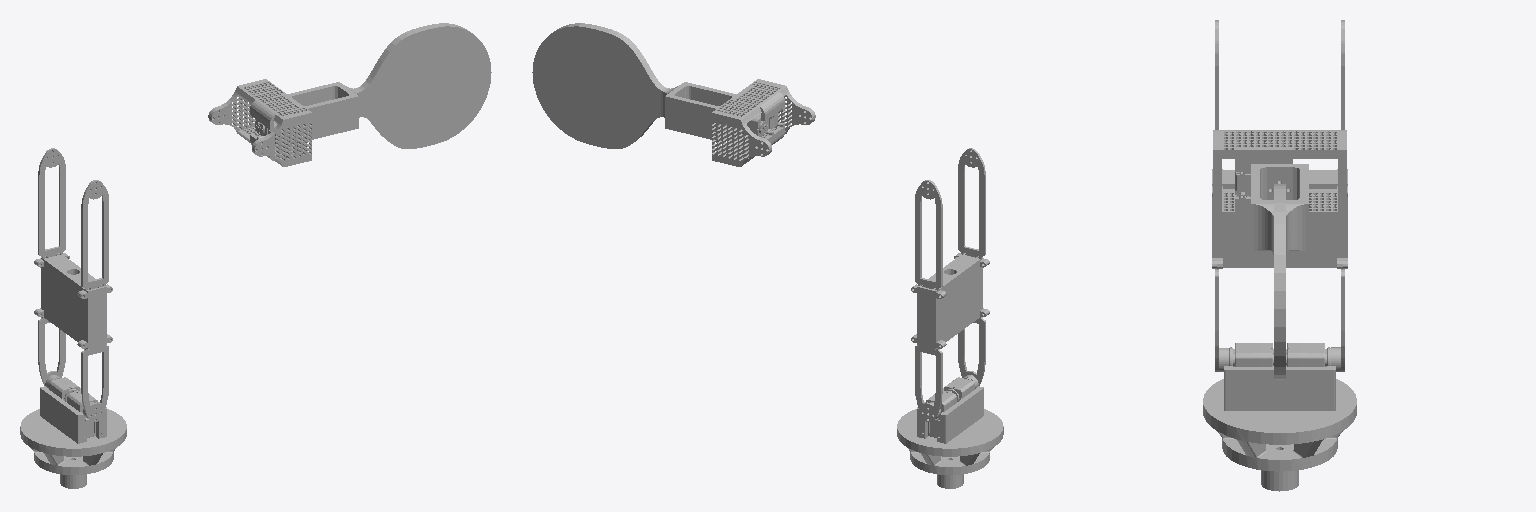
The robot description file, URDF, robot "tt_robot_new":
<?xml version="1.0" encoding="utf-8"?>
<!-- This URDF was automatically created by SolidWorks to URDF Exporter! Originally created by [author] ([email redacted]) 
     Commit Version: 1.6.0-4-g7f85cfe  Build Version: 1.6.7995.38578
     For more information, please see http://wiki.ros.org/sw_urdf_exporter -->
<robot
  name="tt_robot_new">
  <link
    name="base_link">
    <inertial>
      <origin
        xyz="-0.00068450739552306 -0.0177601382975201 -0.309617135038554"
        rpy="0 0 0" />
      <mass
        value="9.7959481753208" />
      <inertia
        ixx="1.31043502484873"
        ixy="9.20034806129902E-10"
        ixz="5.13036286463764E-06"
        iyy="0.117663335590758"
        iyz="1.11756095773954E-08"
        izz="1.19795759634263" />
    </inertial>
    <visual>
      <origin
        xyz="0 0 0"
        rpy="0 0 0" />
      <geometry>
        <mesh
          filename="package://tt_robot_new/meshes/base_link.STL" />
      </geometry>
      <material
        name="">
        <color
          rgba="0.752941176470588 0.752941176470588 0.752941176470588 1" />
      </material>
    </visual>
    <collision>
      <origin
        xyz="0 0 0"
        rpy="0 0 0" />
      <geometry>
        <mesh
          filename="package://tt_robot_new/meshes/base_link.STL" />
      </geometry>
    </collision>
  </link>
  <link
    name="link1">
    <inertial>
      <origin
        xyz="0.0515795102487956 0.0712796861517293 2.20004223339121E-05"
        rpy="0 0 0" />
      <mass
        value="3.10157496535556" />
      <inertia
        ixx="0.00365213528794053"
        ixy="0.000152045186326286"
        ixz="5.06289312961614E-07"
        iyy="0.00585553170474243"
        iyz="-2.36168217005859E-06"
        izz="0.00293625685237942" />
    </inertial>
    <visual>
      <origin
        xyz="0 0 0"
        rpy="0 0 0" />
      <geometry>
        <mesh
          filename="package://tt_robot_new/meshes/link1.STL" />
      </geometry>
      <material
        name="">
        <color
          rgba="0.752941176470588 0.752941176470588 0.752941176470588 1" />
      </material>
    </visual>
    <collision>
      <origin
        xyz="0 0 0"
        rpy="0 0 0" />
      <geometry>
        <mesh
          filename="package://tt_robot_new/meshes/link1.STL" />
      </geometry>
    </collision>
  </link>
  <joint
    name="jlink1"
    type="prismatic">
    <origin
      xyz="-0.000210000000085087 0 0.0336899999999996"
      rpy="1.5707963267949 0 0" />
    <parent
      link="base_link" />
    <child
      link="link1" />
    <axis
      xyz="0 0 1" />
    <limit
      lower="-0.5"
      upper="0.5"
      effort="330"
      velocity="37.68" />
  </joint>
  <link
    name="link2">
    <inertial>
      <origin
        xyz="-1.88368320941379E-10 1.74874559277782E-10 0.0467204521303066"
        rpy="0 0 0" />
      <mass
        value="0.419386742315461" />
      <inertia
        ixx="0.000305156356931551"
        ixy="7.55334082473175E-10"
        ixz="-1.24629777794361E-12"
        iyy="0.000287056887317105"
        iyz="1.06009487919062E-12"
        izz="0.000386600982434695" />
    </inertial>
    <visual>
      <origin
        xyz="0 0 0"
        rpy="0 0 0" />
      <geometry>
        <mesh
          filename="package://tt_robot_new/meshes/link2.STL" />
      </geometry>
      <material
        name="">
        <color
          rgba="0.752941176470588 0.752941176470588 0.752941176470588 1" />
      </material>
    </visual>
    <collision>
      <origin
        xyz="0 0 0"
        rpy="0 0 0" />
      <geometry>
        <mesh
          filename="package://tt_robot_new/meshes/link2.STL" />
      </geometry>
    </collision>
  </link>
  <joint
    name="jlink2"
    type="revolute">
    <origin
      xyz="0.000307000000082103 0.126190262351384 6.26813771418266E-05"
      rpy="-1.57079632679489 0 0" />
    <parent
      link="link1" />
    <child
      link="link2" />
    <axis
      xyz="0 0 -1" />
    <limit
      lower="-3.14"
      upper="3.14"
      effort="1.32"
      velocity="9420.0" />
  </joint>
  <link
    name="link3">
    <inertial>
      <origin
        xyz="3.25066640272098E-11 -0.123773974187578 0.0433249999999483"
        rpy="0 0 0" />
      <mass
        value="0.2011194299253" />
      <inertia
        ixx="0.000440124087331883"
        ixy="1.08178655134614E-13"
        ixz="1.41113659459954E-20"
        iyy="0.000143174669865854"
        iyz="-9.03037125908013E-19"
        izz="0.000324876527152772" />
    </inertial>
    <visual>
      <origin
        xyz="0 0 0"
        rpy="0 0 0" />
      <geometry>
        <mesh
          filename="package://tt_robot_new/meshes/link3.STL" />
      </geometry>
      <material
        name="">
        <color
          rgba="0.752941176470588 0.752941176470588 0.752941176470588 1" />
      </material>
    </visual>
    <collision>
      <origin
        xyz="0 0 0"
        rpy="0 0 0" />
      <geometry>
        <mesh
          filename="package://tt_robot_new/meshes/link3.STL" />
      </geometry>
    </collision>
  </link>
  <joint
    name="jlink3"
    type="revolute">
    <origin
      xyz="0 -0.0433249999999783 0.0934797376485841"
      rpy="-1.5707963267949 0 0" />
    <parent
      link="link2" />
    <child
      link="link3" />
    <axis
      xyz="0 0 -1" />
    <limit
      lower="-1.57"
      upper="1.57"
      effort="5.88399"
      velocity="4.712388975" />
  </joint>
  <link
    name="link4">
    <inertial>
      <origin
        xyz="0.0930573226616448 0.000269897585655876 0.0462109403227624"
        rpy="0 0 0" />
      <mass
        value="0.435806922427861" />
      <inertia
        ixx="0.000162284988620413"
        ixy="-5.24307844513412E-07"
        ixz="-1.17325972370809E-11"
        iyy="0.00051189665256617"
        iyz="1.50430408773966E-09"
        izz="0.000405471720641148" />
    </inertial>
    <visual>
      <origin
        xyz="0 0 0"
        rpy="0 0 0" />
      <geometry>
        <mesh
          filename="package://tt_robot_new/meshes/link4.STL" />
      </geometry>
      <material
        name="">
        <color
          rgba="0.752941176470588 0.752941176470588 0.752941176470588 1" />
      </material>
    </visual>
    <collision>
      <origin
        xyz="0 0 0"
        rpy="0 0 0" />
      <geometry>
        <mesh
          filename="package://tt_robot_new/meshes/link4.STL" />
      </geometry>
    </collision>
  </link>
  <joint
    name="jlink4"
    type="revolute">
    <origin
      xyz="0 -0.280800000000015 -0.00288594165537415"
      rpy="0 0 0" />
    <parent
      link="link3" />
    <child
      link="link4" />
    <axis
      xyz="0 0 -1" />
    <limit
      lower="-0.698132"
      upper="1.57"
      effort="5.884"
      velocity="4.7124" />
  </joint>
  <link
    name="link5">
    <inertial>
      <origin
        xyz="0.041894 -6.7695E-05 0.042274"
        rpy="0 0 0" />
      <mass
        value="0.11814" />
      <inertia
        ixx="0.00014307"
        ixy="4.2589E-08"
        ixz="3.5041E-07"
        iyy="0.00012979"
        iyz="3.2235E-08"
        izz="6.0556E-05" />
    </inertial>
    <visual>
      <origin
        xyz="0 0 0"
        rpy="0 0 0" />
      <geometry>
        <mesh
          filename="package://tt_robot_new/meshes/link5.STL" />
      </geometry>
      <material
        name="">
        <color
          rgba="0.75294 0.75294 0.75294 1" />
      </material>
    </visual>
    <collision>
      <origin
        xyz="0 0 0"
        rpy="0 0 0" />
      <geometry>
        <mesh
          filename="package://tt_robot_new/meshes/link5.STL" />
      </geometry>
    </collision>
  </link>
  <joint
    name="jlink5"
    type="revolute">
    <origin
      xyz="0.215000000000021 0 -0.00248905834465663"
      rpy="0 0 0" />
    <parent
      link="link4" />
    <child
      link="link5" />
    <axis
      xyz="0 0 -1" />
    <limit
      lower="-1.57"
      upper="1.57"
      effort="3.92266"
      velocity="11.10029403" />
  </joint>
  <link
    name="link6">
    <inertial>
      <origin
        xyz="8.58594260133572E-08 -9.09404329618724E-10 0.142670897995933"
        rpy="0 0 0" />
      <mass
        value="0.259215495794655" />
      <inertia
        ixx="0.0012854171400005"
        ixy="-7.86668490843991E-11"
        ixz="7.11773078650646E-09"
        iyy="0.0015317070253974"
        iyz="-2.86634409453465E-12"
        izz="0.000283938091295148" />
    </inertial>
    <visual>
      <origin
        xyz="0 0 0"
        rpy="0 0 0" />
      <geometry>
        <mesh
          filename="package://tt_robot_new/meshes/link6.STL" />
      </geometry>
      <material
        name="">
        <color
          rgba="0.752941176470588 0.752941176470588 0.752941176470588 1" />
      </material>
    </visual>
    <collision>
      <origin
        xyz="0 0 0"
        rpy="0 0 0" />
      <geometry>
        <mesh
          filename="package://tt_robot_new/meshes/link6.STL" />
      </geometry>
    </collision>
  </link>
  <joint
    name="jlink6"
    type="revolute">
    <origin
      xyz="0.0660978757954231 0 0.0487000000000821"
      rpy="1.5707963267949 0 1.57079632679491" />
    <parent
      link="link5" />
    <child
      link="link6" />
    <axis
      xyz="0 0 -1" />
    <limit
      lower="-3.14"
      upper="3.14"
      effort="1.96133"
      velocity="11.10029403" />
  </joint>
</robot>

--- What the picture shows (computed from the rendered views, not written in the file) ---
3 views of the same robot in one strip: view 1: azimuth 30°, elevation 25°; view 2: azimuth 150°, elevation 25°; view 3: azimuth 270°, elevation 25° (orthographic).
Robot: tt_robot_new — 7 links, 6 joints (5 revolute, 1 prismatic); root link base_link; default pose: every joint at zero.
Links seen in each view (by area): view 1: link6, link3, link2, link5; view 2: link6, link3, link2, link5; view 3: link2, link5, link3, link6.
Boxes of the visible links, <box> form: link6: <box>287,23,491,148</box>; link3: <box>34,148,112,421</box>; link2: <box>20,375,126,488</box>; link5: <box>208,79,311,166</box>; link6: <box>532,23,736,148</box>; link3: <box>911,148,989,421</box>; link2: <box>897,375,1003,488</box>; link5: <box>712,79,815,166</box>; link2: <box>1203,343,1356,491</box>; link5: <box>1213,130,1346,219</box>; link3: <box>1212,20,1347,371</box>; link6: <box>1251,164,1308,379</box>.
Bounding box of the posed robot: 0.6009 × 0.12 × 0.4595 m (x, y, z).
4 mesh visuals loaded from 7 distinct referenced files (4 binary STL); not drawn: 3 (reference not matched to a file when rendering).